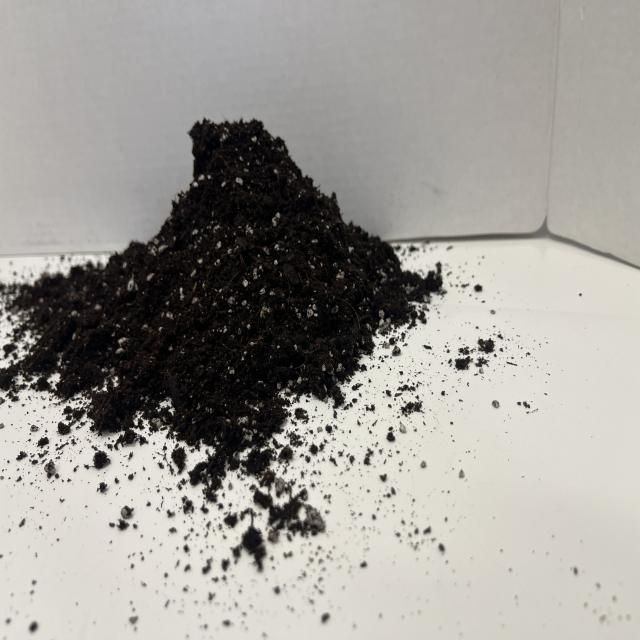soil: (3, 113, 444, 470)
